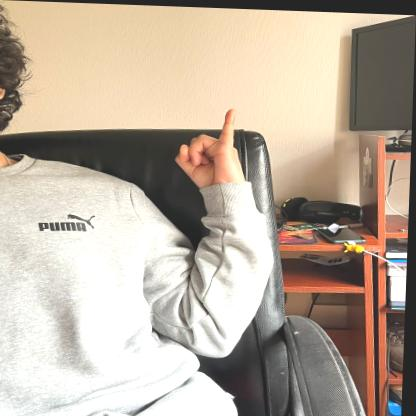I: (172, 101, 261, 203)
